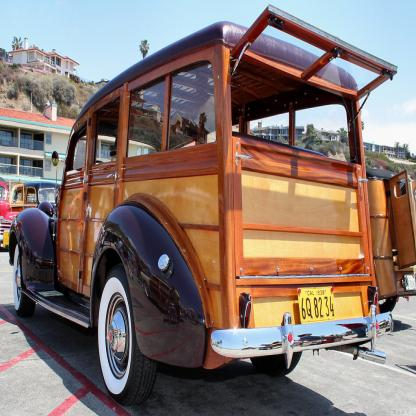Car: (1, 179, 59, 252)
